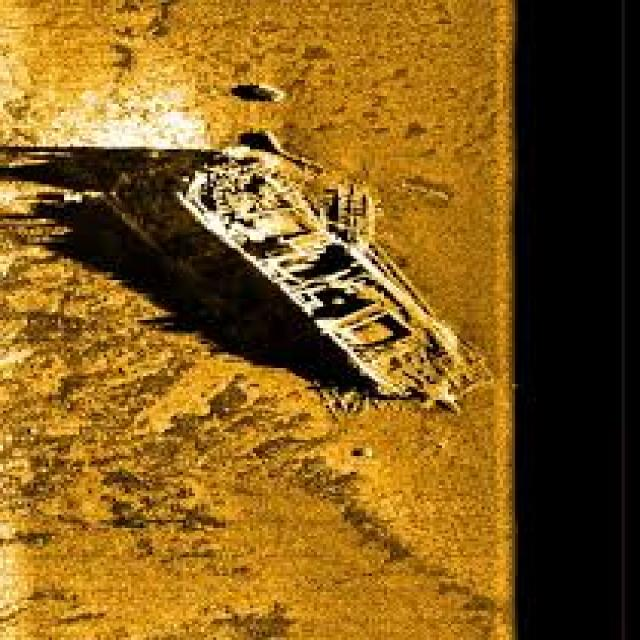ship: (103, 131, 476, 408)
